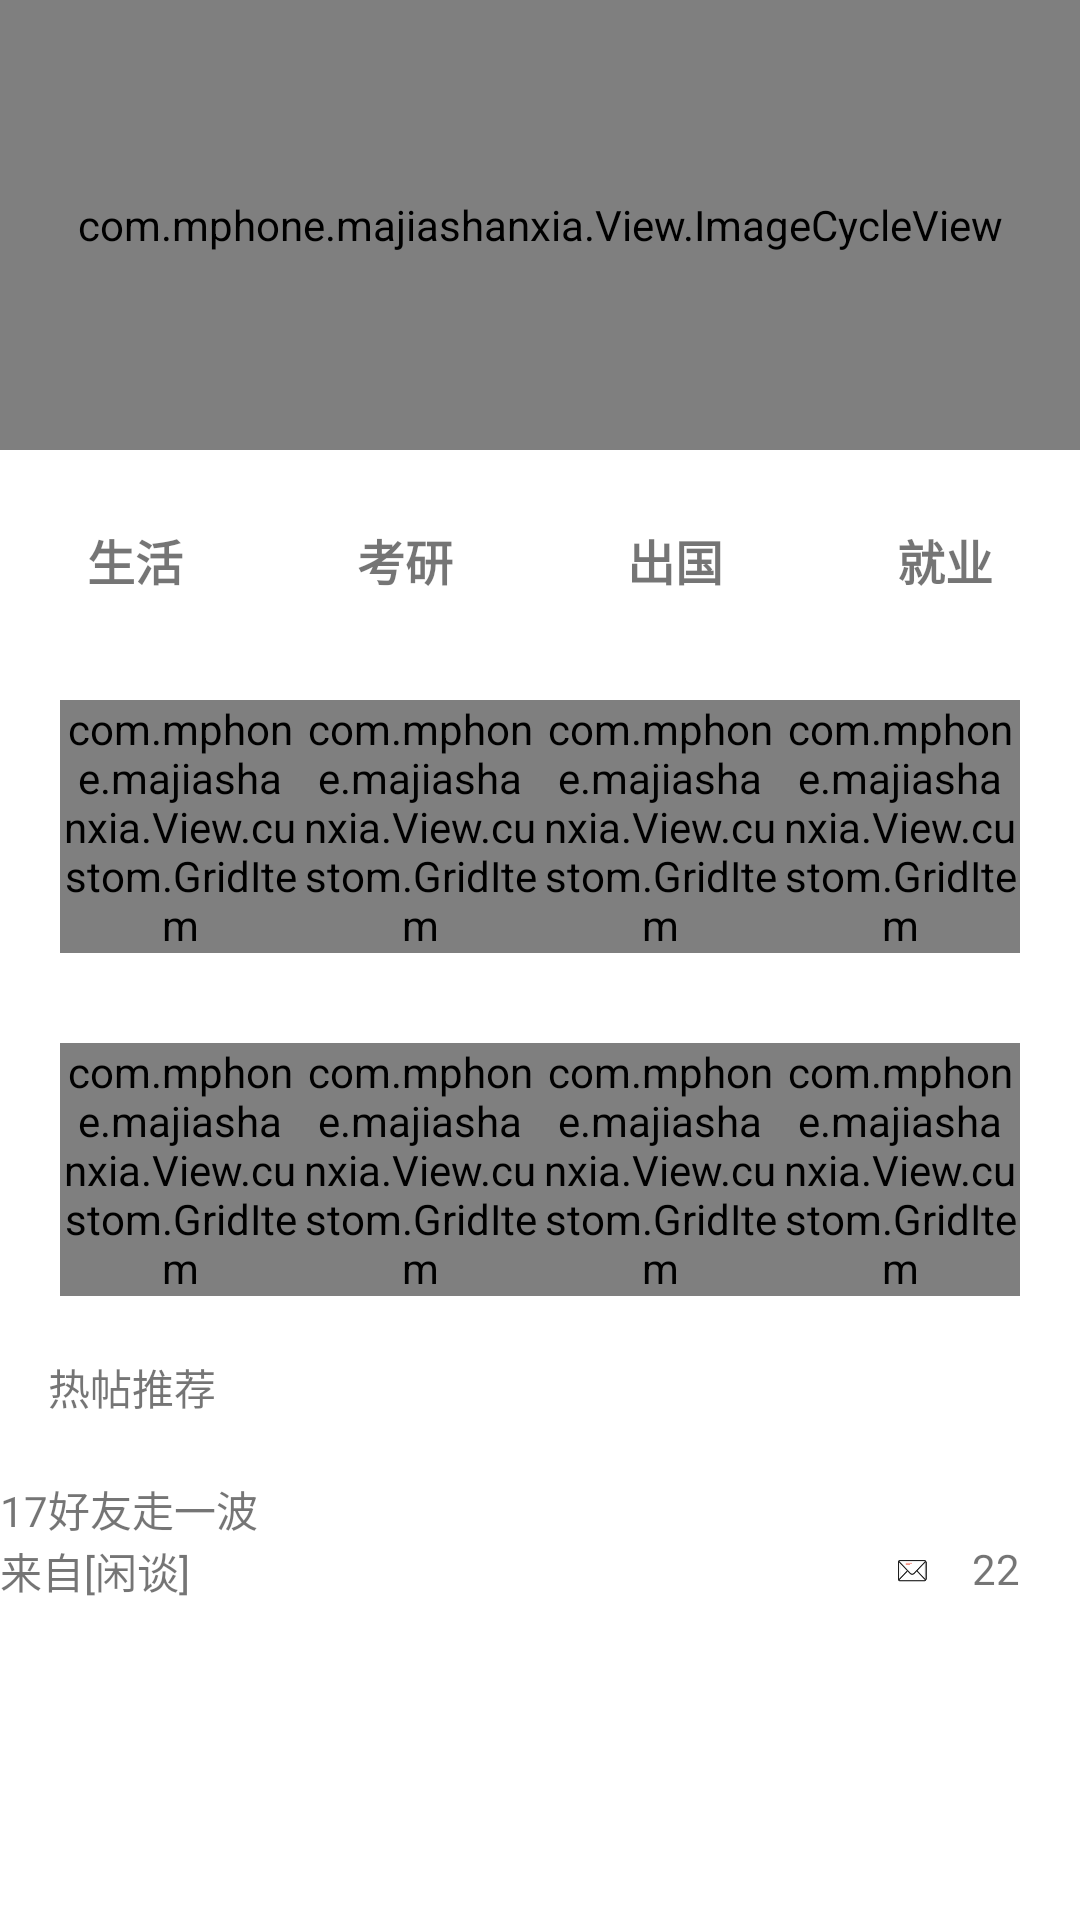

Icon click points for this 1080px x 1920px phone screenshot, format (x=x, y=y):
envelope: (x=912, y=1571)
